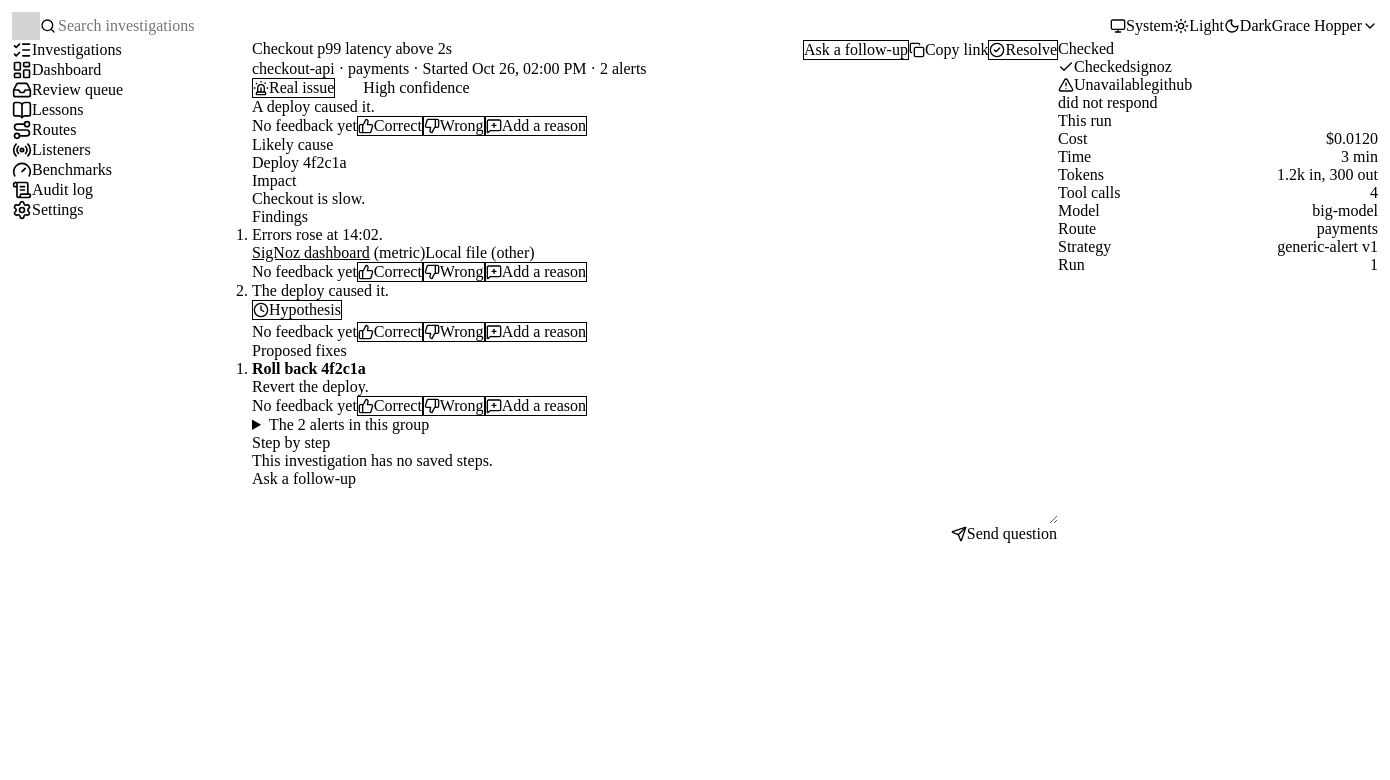
Test: feedback on the parts of an investigation › shows a refusal of the API in its own words and keeps the form
This screenshot has width=1390, height=780.
Click the button with aria-label "Mark finding f1 wrong" at (454, 272), box [423,262,485,282]
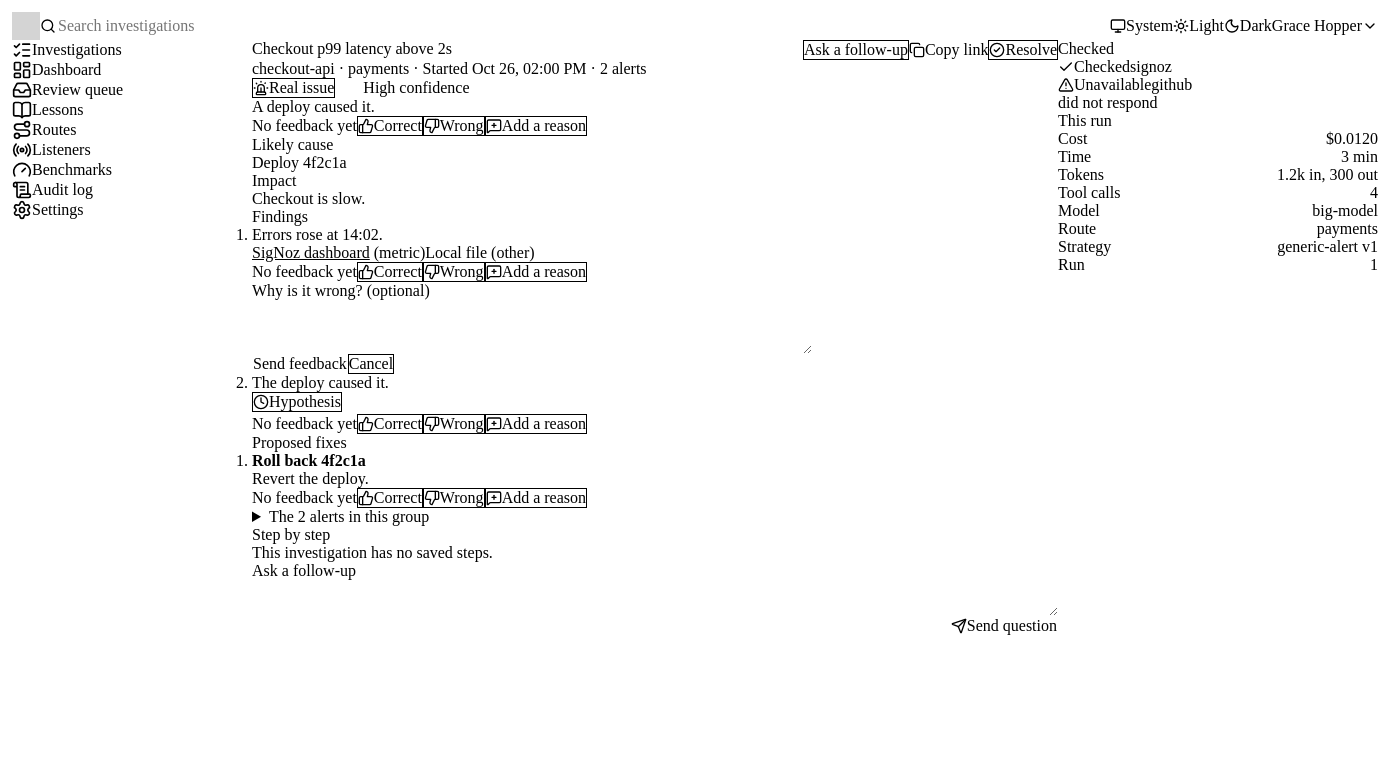
Type "Not true." into the text box labelled "Why is it wrong? (optional)" at (532, 327), box [252,300,812,354]
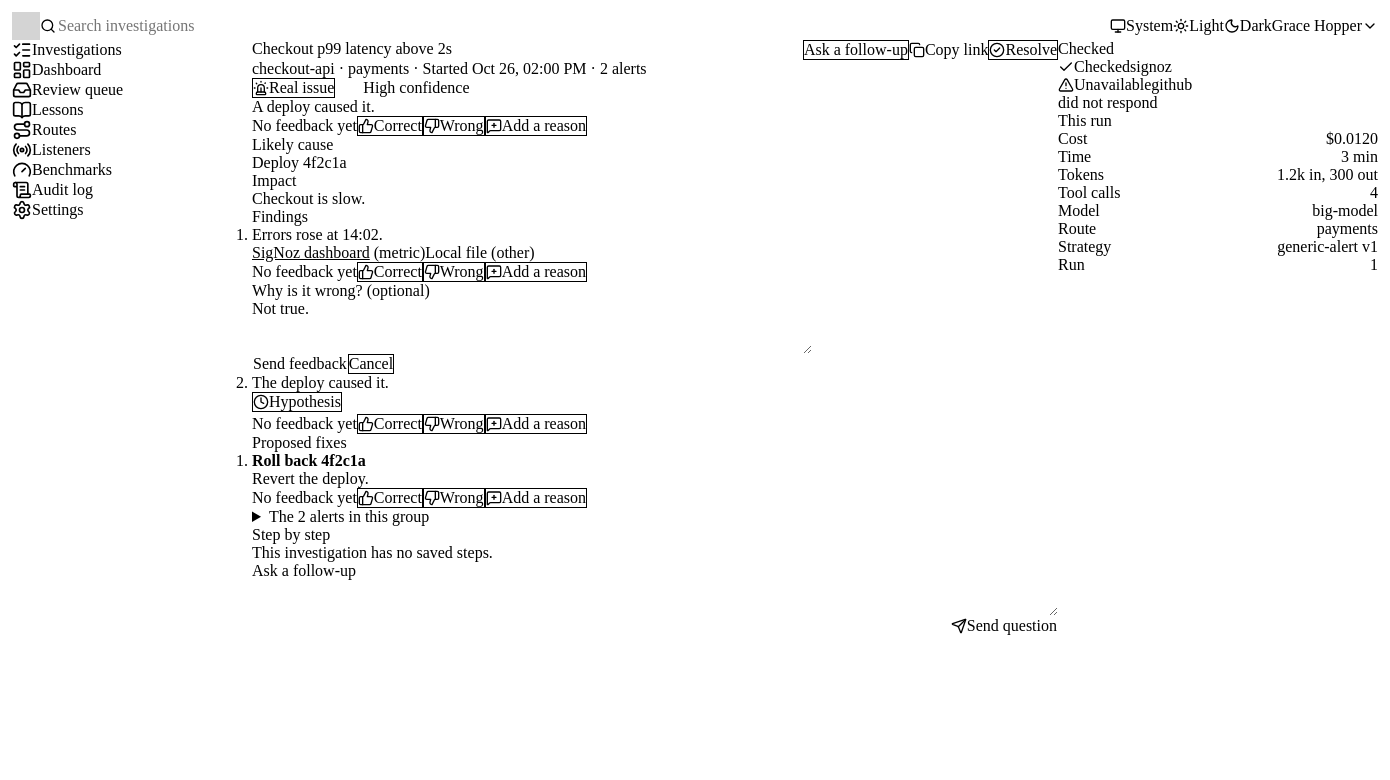
Click the button "Send feedback" at (300, 364), box [252,354,348,374]
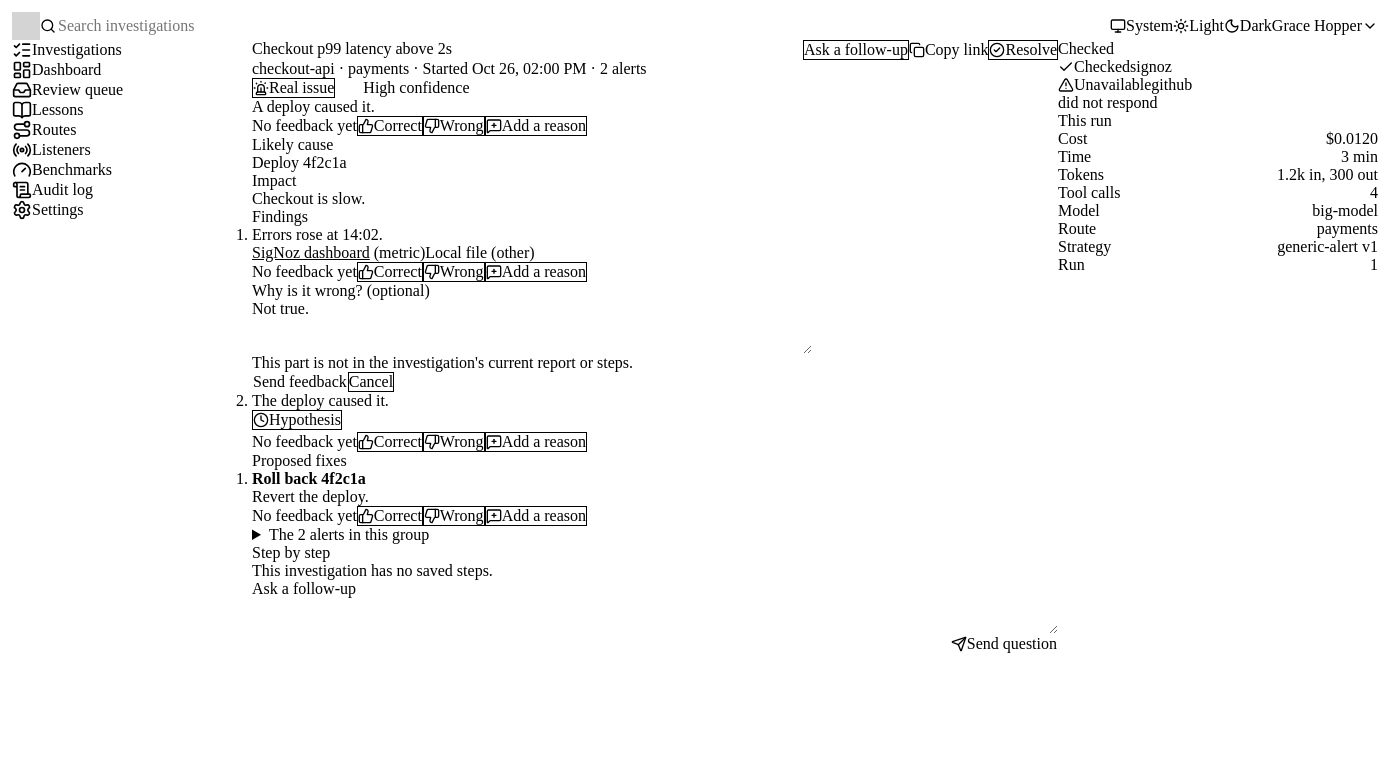
Check: the message reads "This part is not in the investigation's current report or steps.", box [252,354,633,371]
